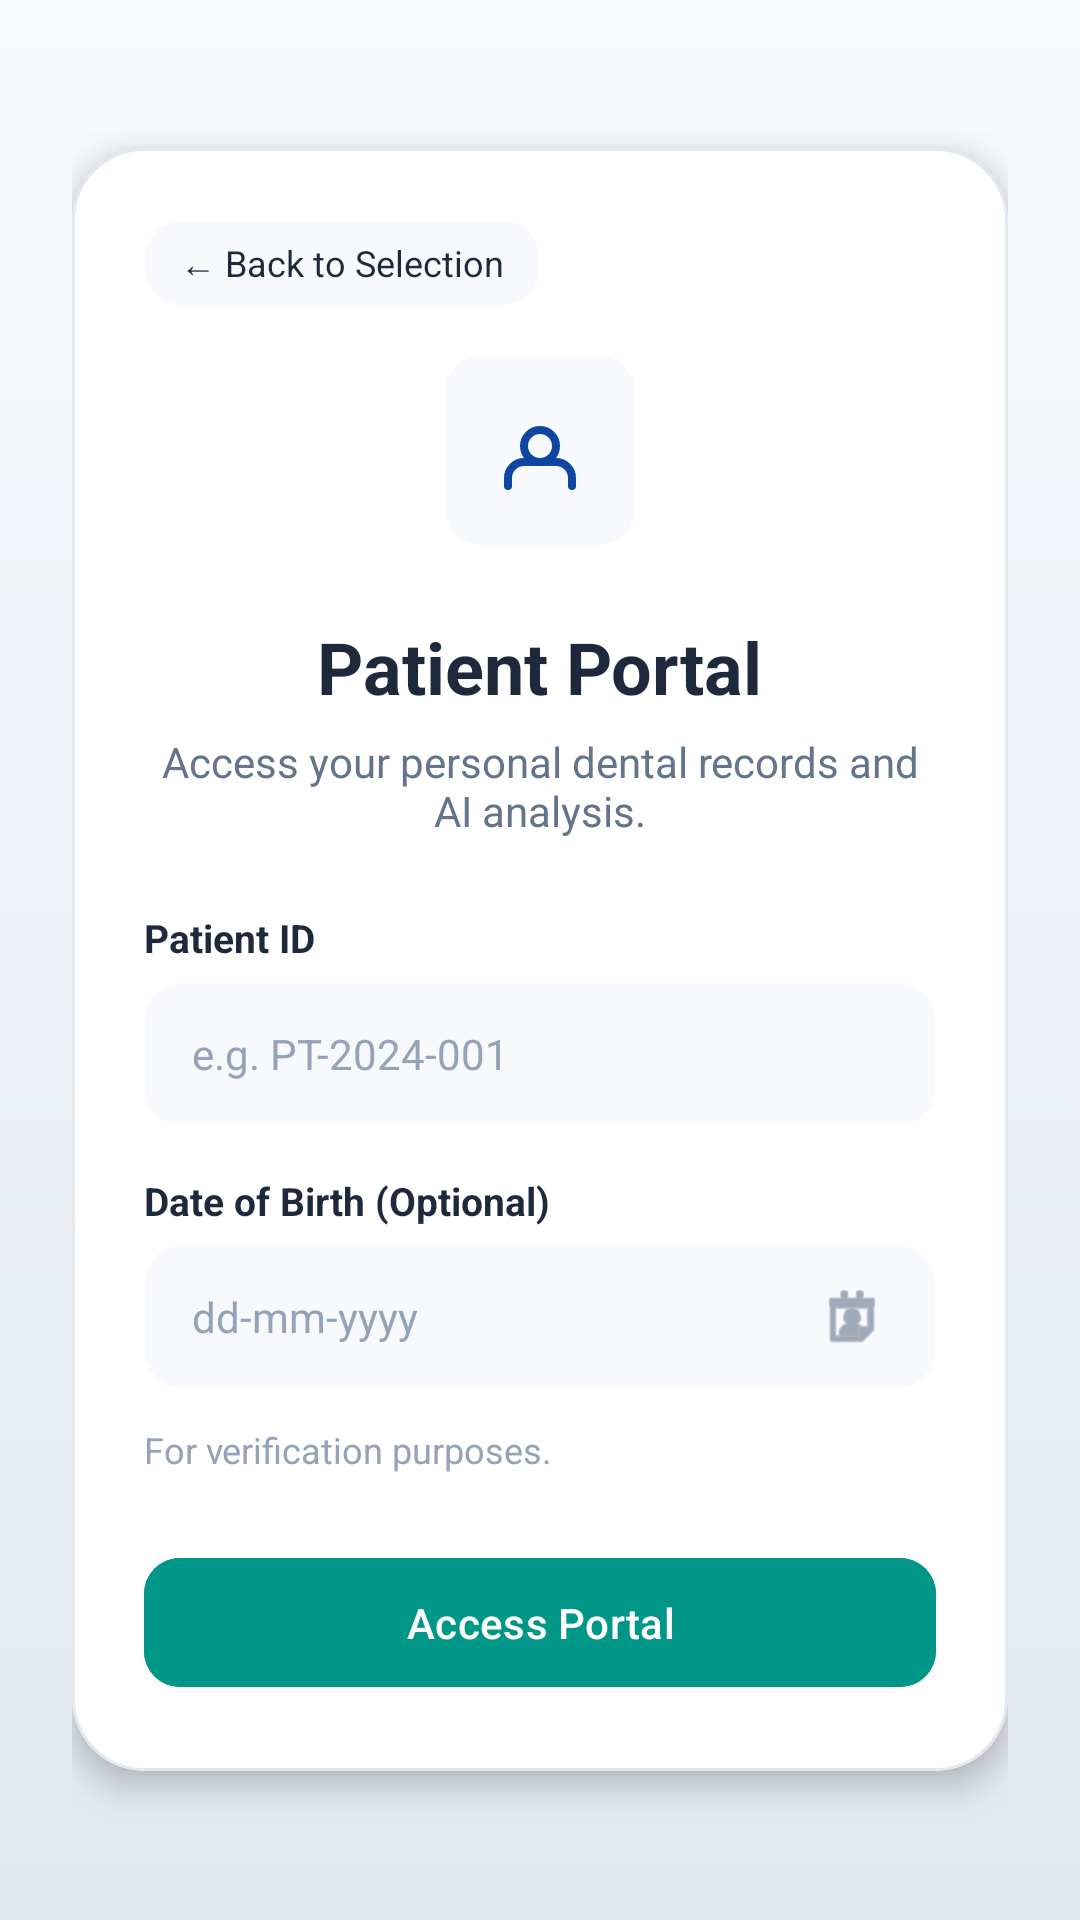

Icon click points for this 1080 x 1920 phone screenshot, format point (x, y):
calendar: point (852, 1316)
user: point (540, 458)
